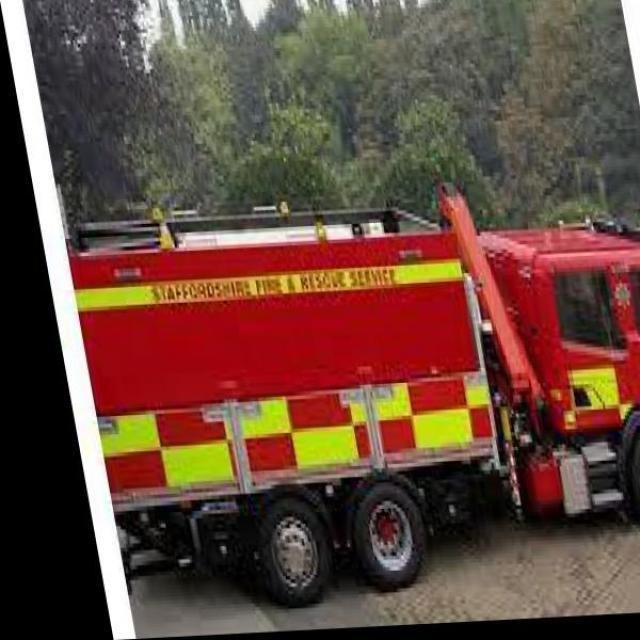emergency: (65, 178, 639, 606)
